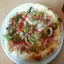pizza: (3, 3, 60, 60)
